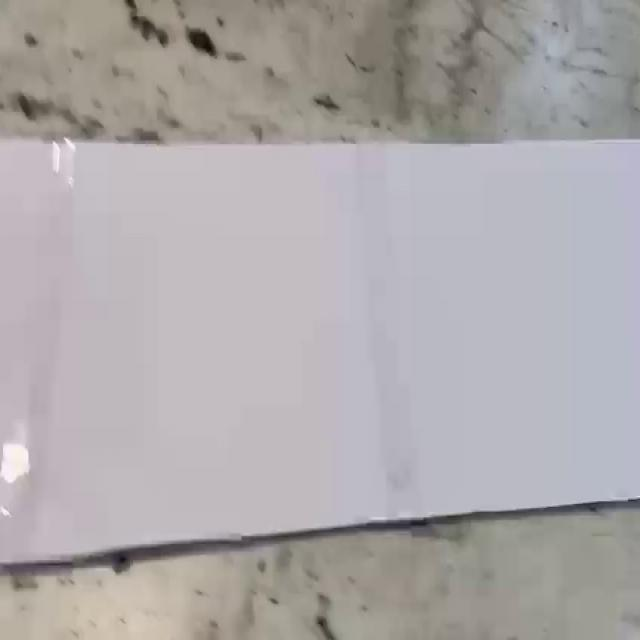road: (0, 140, 640, 562)
